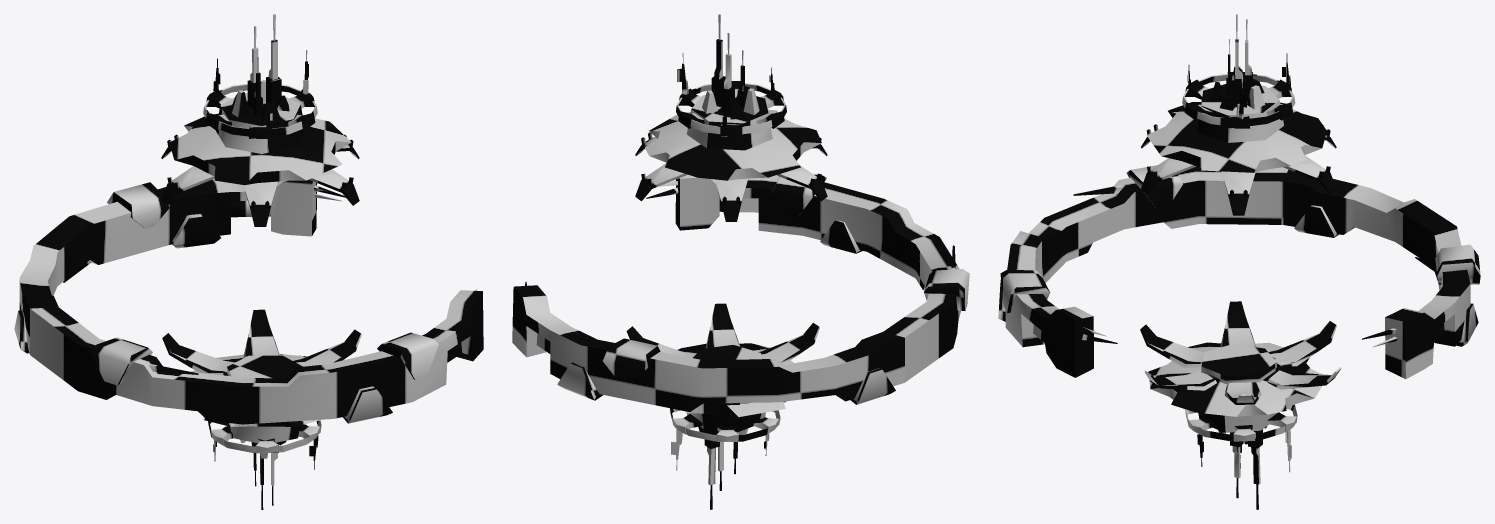
File: galaxygate_cronos.obj
3 views of the same model, side by side, from view 1: azimuth 30°, elevation 25°; view 2: azimuth 150°, elevation 25°; view 3: azimuth 270°, elevation 25° (orthographic). The views are drawn at different scales.
Visible parts, largest first — view 1: galaxygate_cronos; view 2: galaxygate_cronos; view 3: galaxygate_cronos.
Boxes of the visible parts, box(x1,y1,x2,y2) form: galaxygate_cronos: box(14, 14, 483, 509); galaxygate_cronos: box(512, 14, 969, 509); galaxygate_cronos: box(998, 14, 1480, 509).
Size of the model in its own units: 385 by 520 by 458.
Materials: 1 (1 with a texture image).
